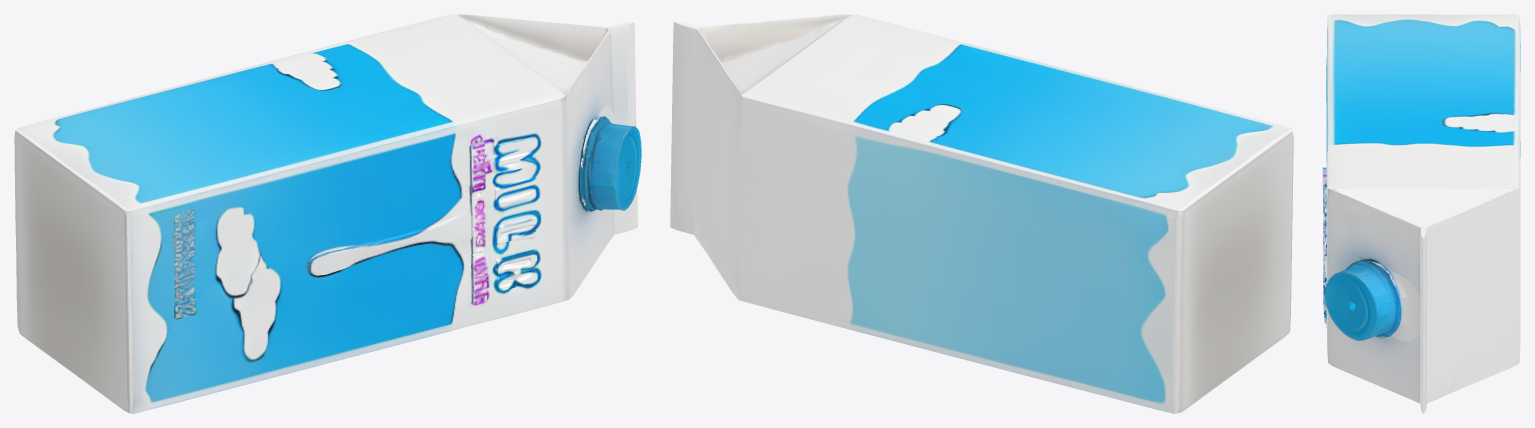
3 renders of one model, left to right at view 1: azimuth 30°, elevation 25°; view 2: azimuth 150°, elevation 25°; view 3: azimuth 270°, elevation 25°, orthographic. The views are drawn at different scales.
Visible parts, largest first — view 1: milk_box; view 2: milk_box; view 3: milk_box.
Boxes of the visible parts, x1=… form: milk_box: x1=14, y1=14, x2=641, y2=413; milk_box: x1=670, y1=14, x2=1293, y2=413; milk_box: x1=1322, y1=14, x2=1520, y2=413.
Bounding box in the file's own units: 0.3618 × 0.1316 × 0.129.
Materials: 1 (1 with a texture image).
